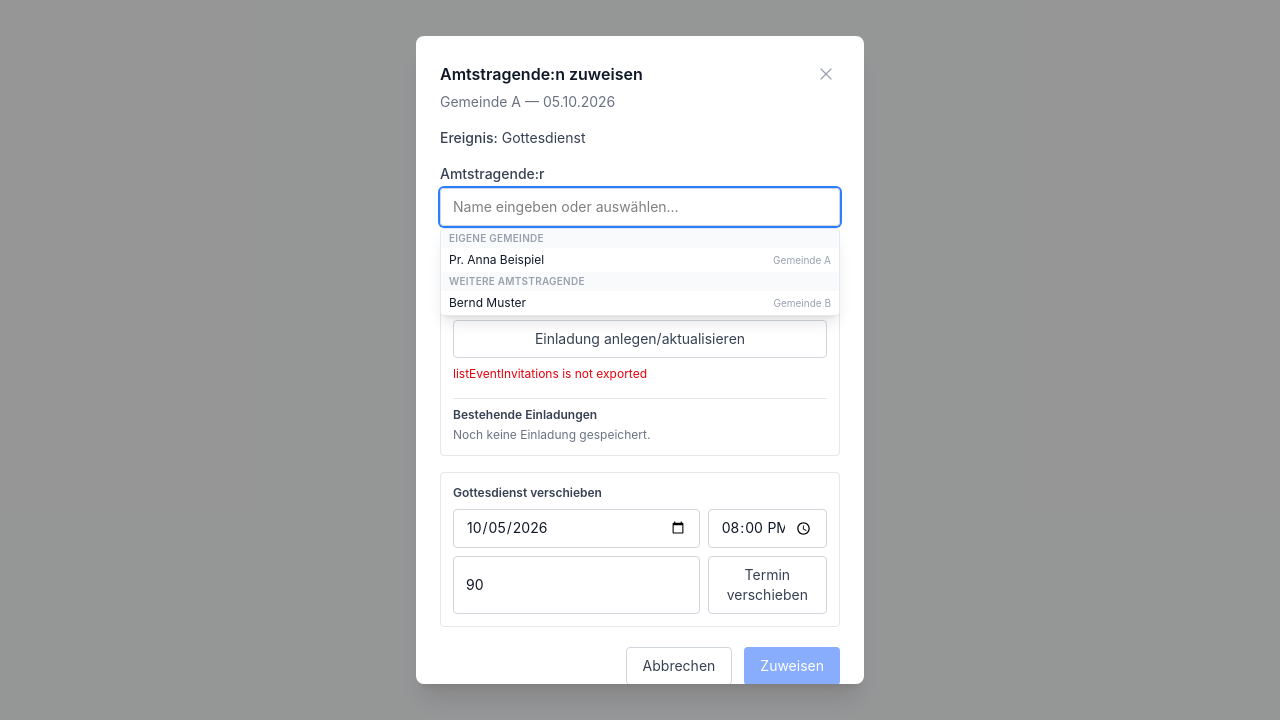
Test: AssignmentModal › keeps blocking conflicts visible and prevents another submit
Type "Anna Beispiel" into the dropdown with placeholder "Name eingeben oder auswählen…" at (640, 207), box x1=440 y1=188 x2=840 y2=226
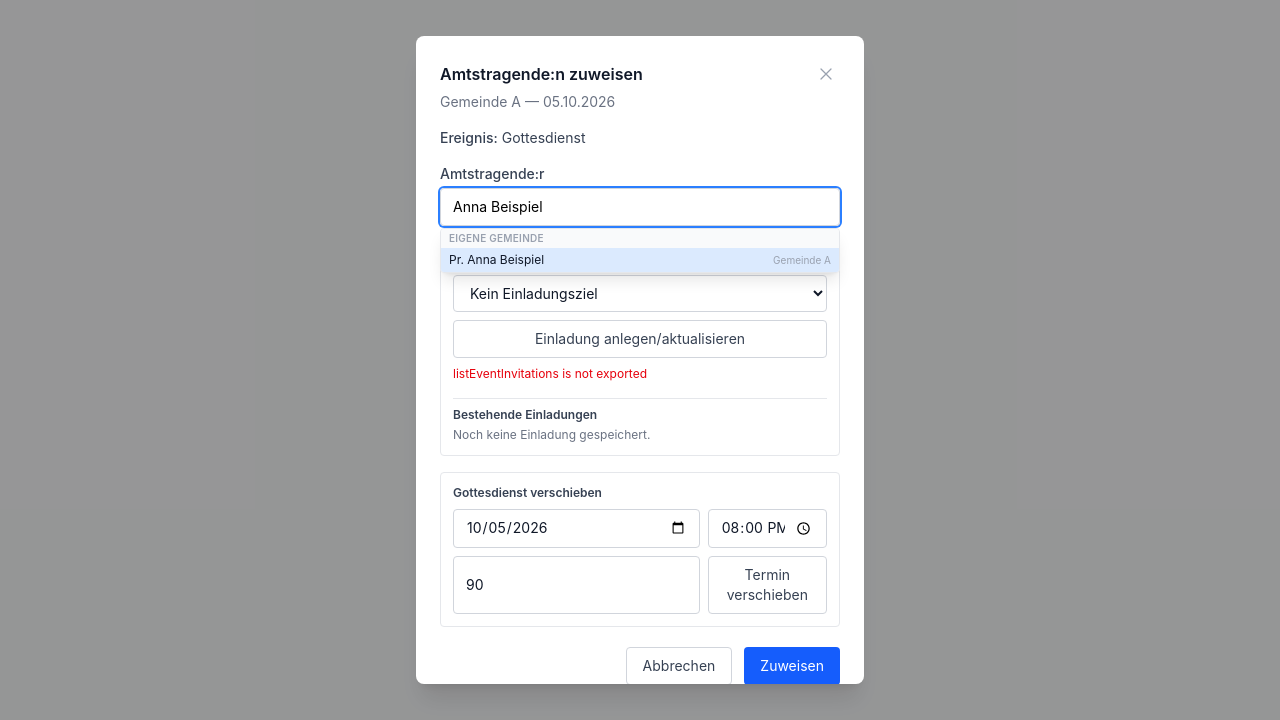
Click the button with test id "submit-assignment" at (792, 666), box x1=744 y1=647 x2=840 y2=685
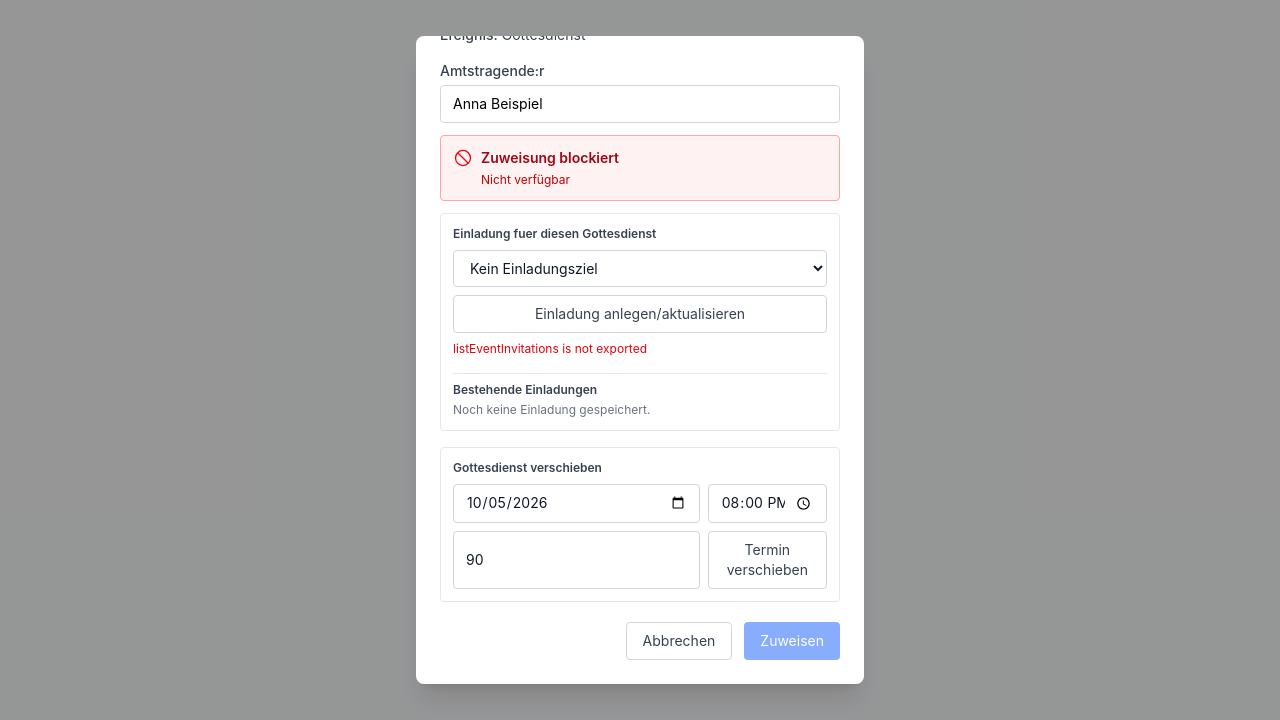
Now the text "Nicht verfügbar" is shown, box x1=481 y1=172 x2=570 y2=187
Now the button with test id "submit-assignment" is disabled, box x1=744 y1=622 x2=840 y2=660
